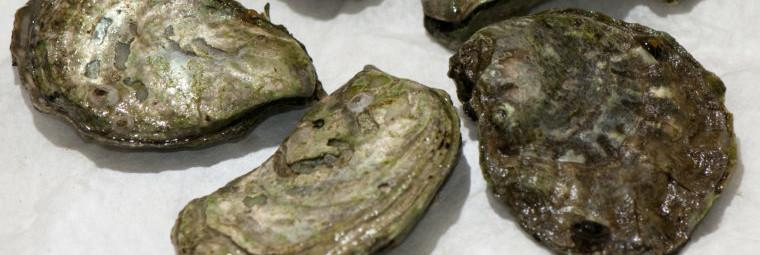Oyster-Closed: (449, 6, 737, 255), (170, 67, 461, 255)
